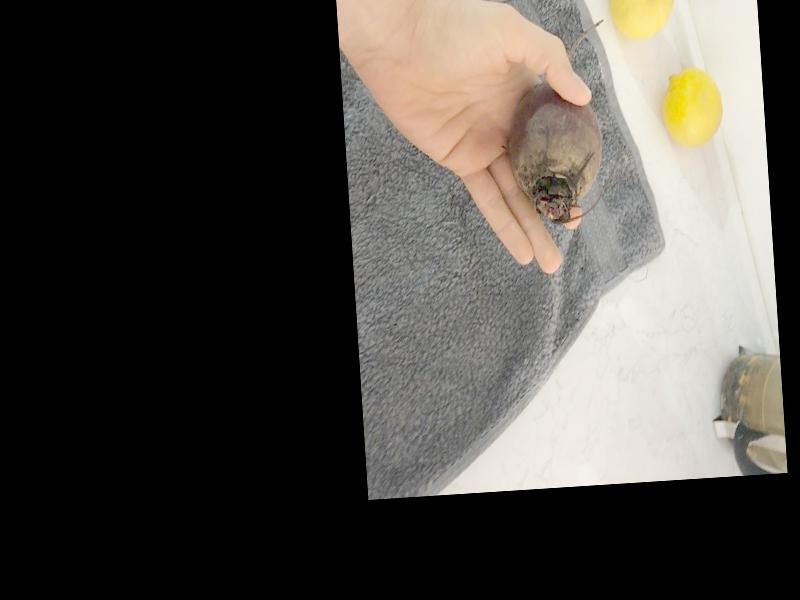Beet: (499, 18, 616, 226)
